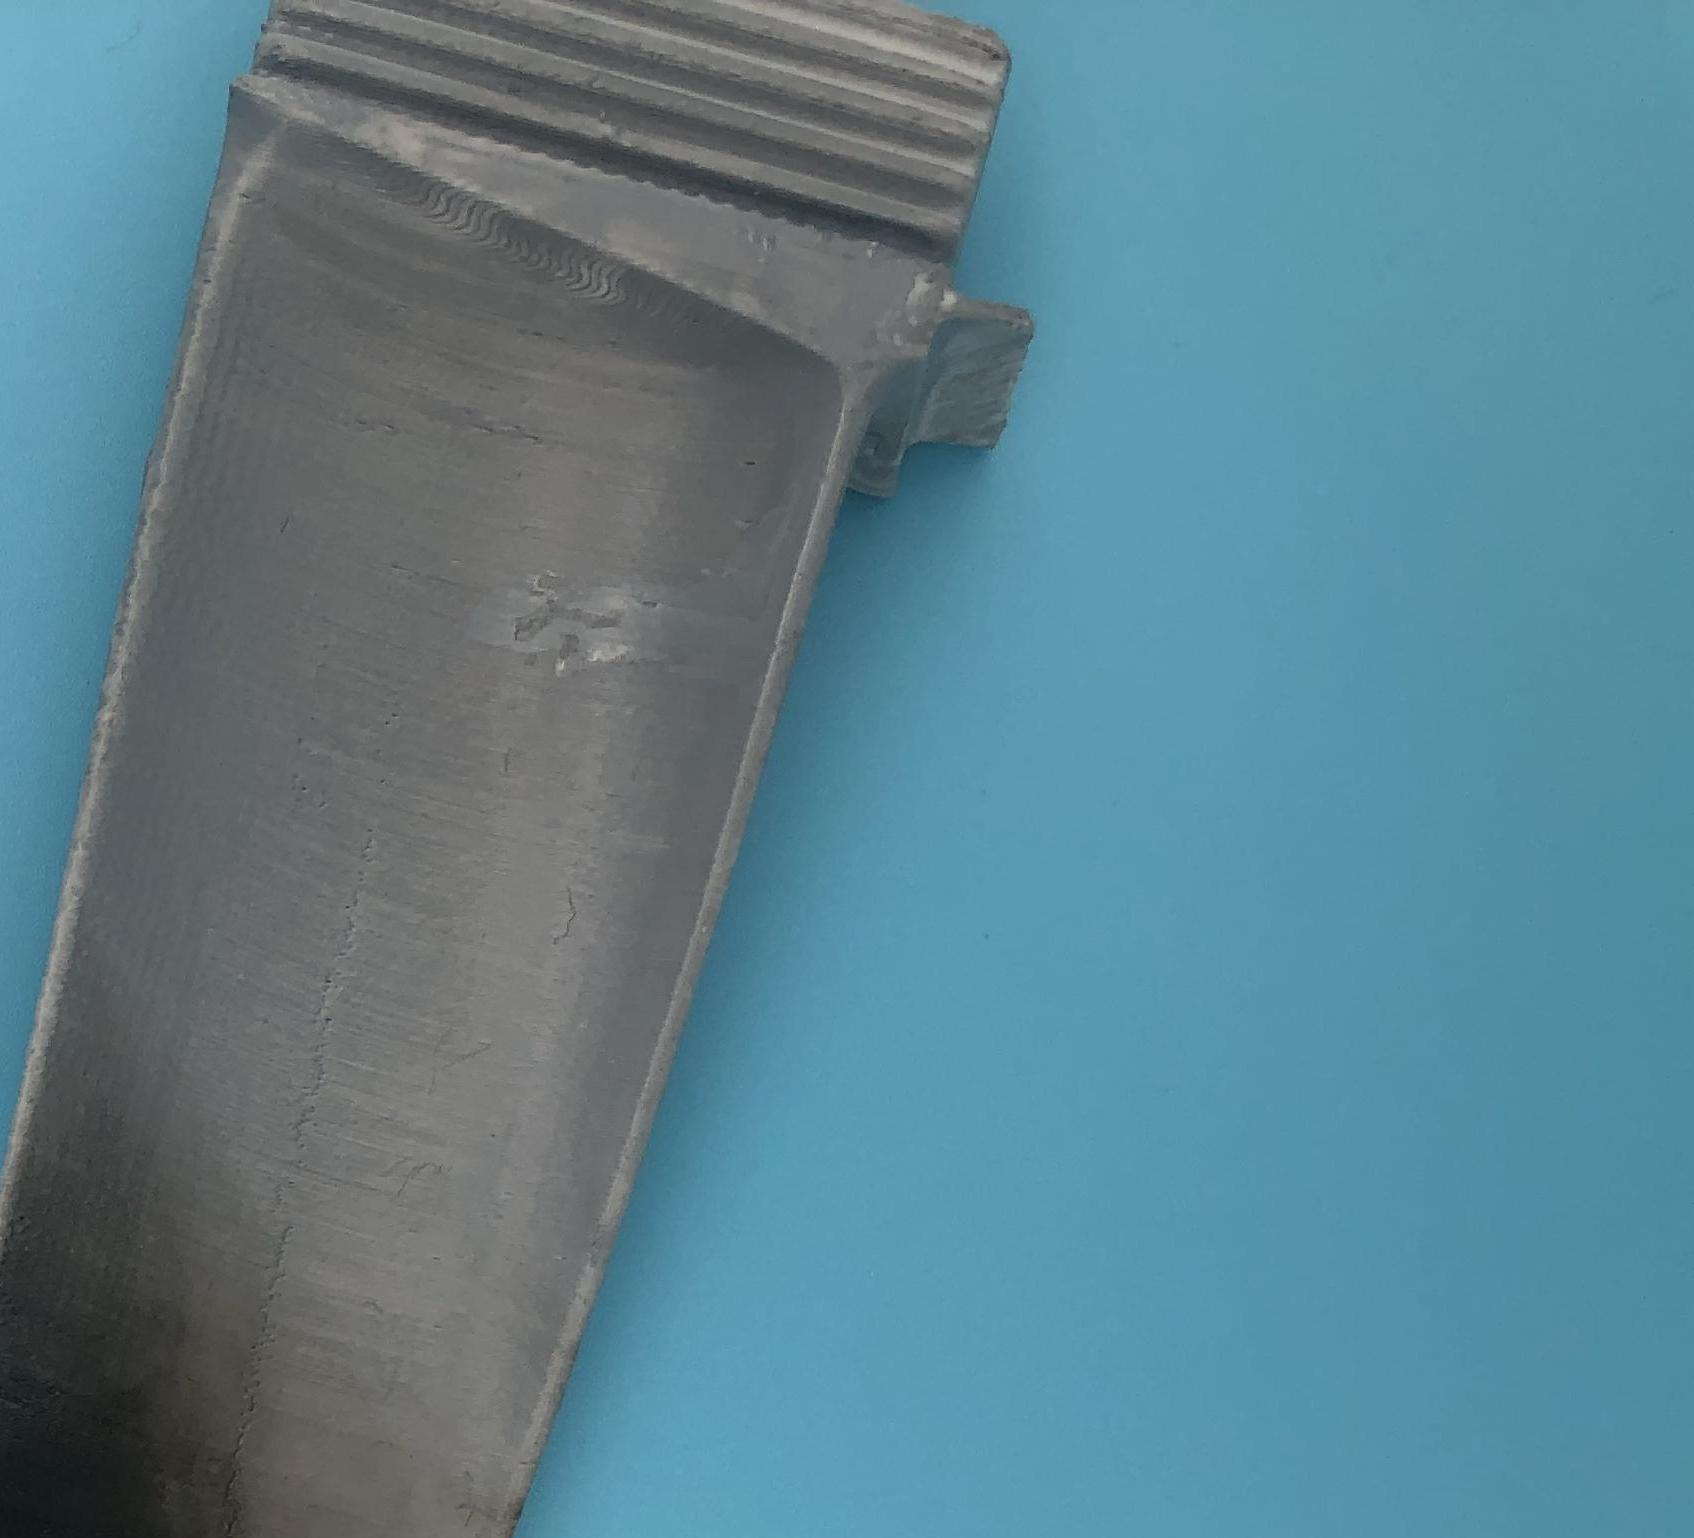ablation: (3, 1210, 263, 1537)
